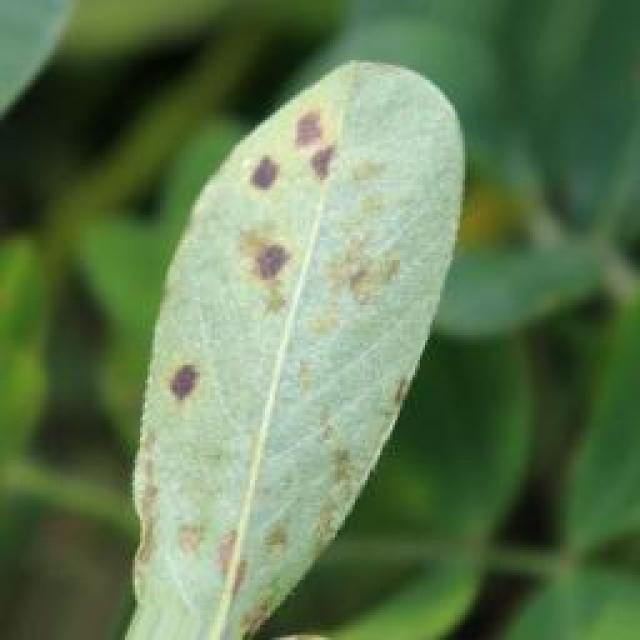Yellowish: (127, 337, 247, 461), (226, 104, 358, 203), (341, 186, 425, 321), (219, 212, 326, 314)
